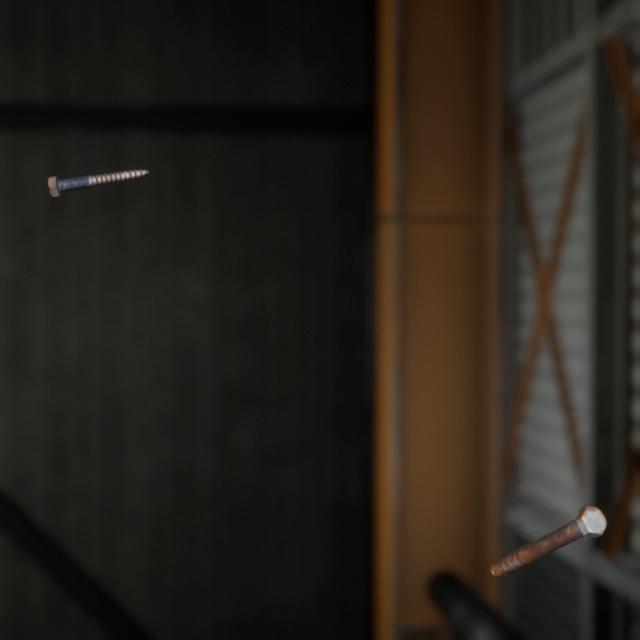bolt: (484, 478, 611, 561), (43, 150, 154, 188)
